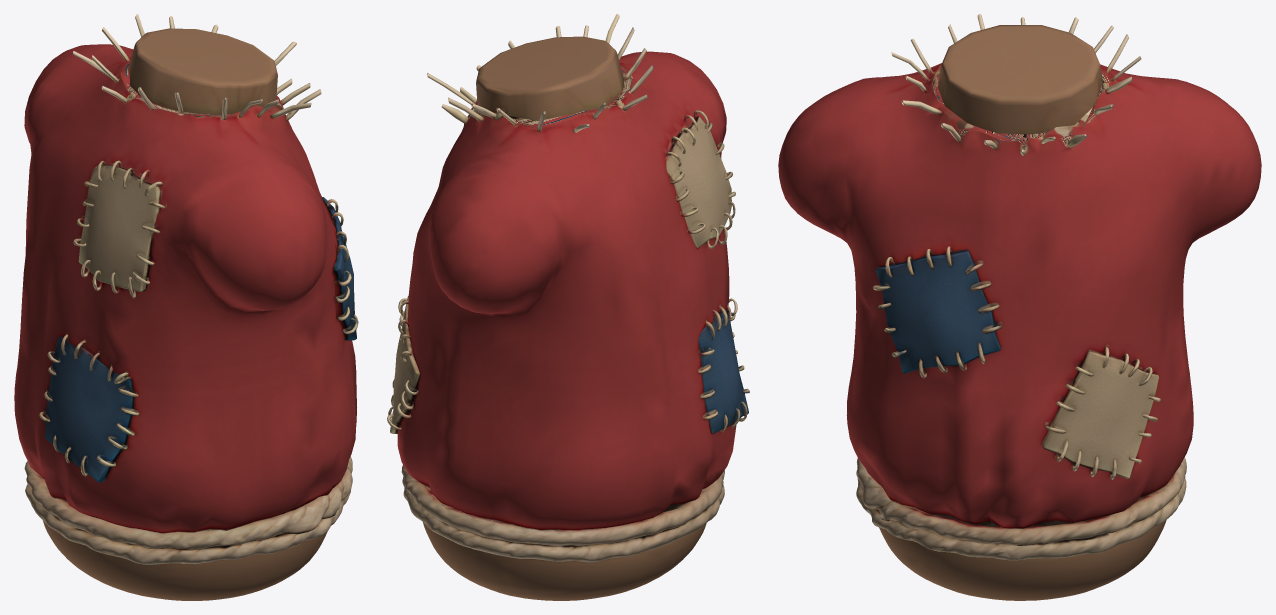
The picture shows the model from 3 angles, left to right: view 1: azimuth 30°, elevation 25°; view 2: azimuth 150°, elevation 25°; view 3: azimuth 270°, elevation 25°; orthographic projection. The views are drawn at different scales.
Parts seen in each view (by area): view 1: tripo_node_70a12b80; view 2: tripo_node_70a12b80; view 3: tripo_node_70a12b80.
Part boxes in pixels (left/top/right/bottom): tripo_node_70a12b80: left=14, top=14, right=358, bottom=600; tripo_node_70a12b80: left=387, top=14, right=749, bottom=600; tripo_node_70a12b80: left=778, top=14, right=1261, bottom=600.
Size of the model in its own units: 0.605 by 0.9995 by 0.8306.
Materials: 1 (1 with a texture image).
